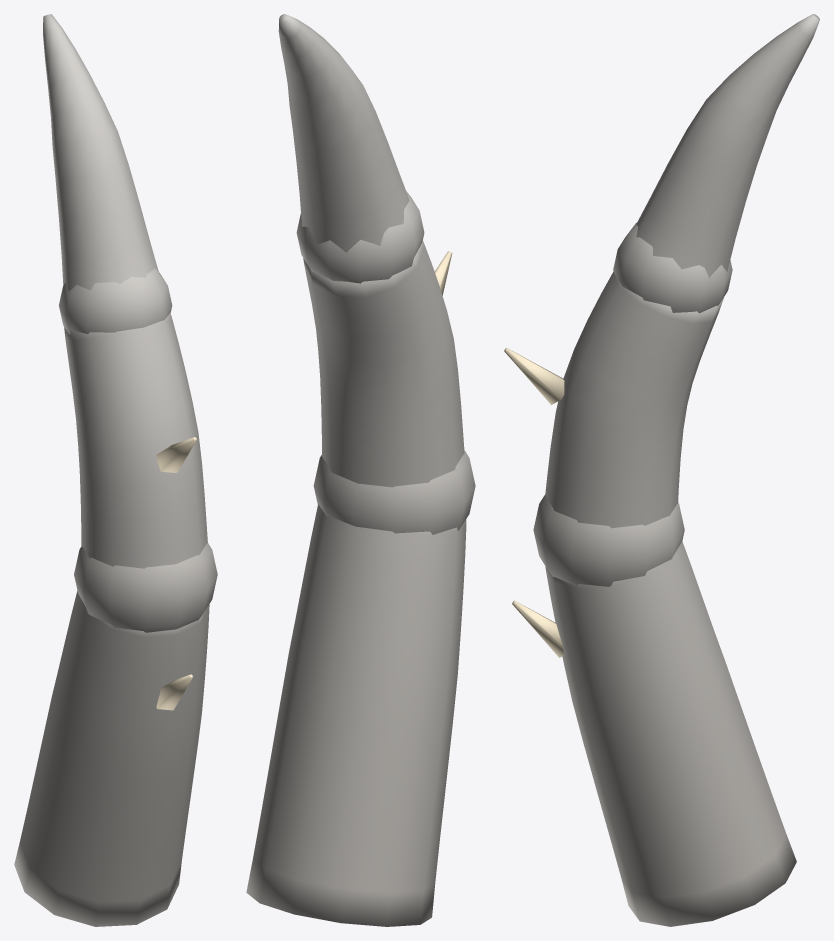
File: part_leg_crab.glb
3 renders of one model, left to right at view 1: azimuth 30°, elevation 25°; view 2: azimuth 150°, elevation 25°; view 3: azimuth 270°, elevation 25°, orthographic. The views are drawn at different scales.
Parts seen in each view (by area): view 1: swing.002_painted_mesh.001; view 2: swing.002_painted_mesh.001; view 3: swing.002_painted_mesh.001.
Part boxes in pixels (x1=…): swing.002_painted_mesh.001: x1=14, y1=14, x2=217, y2=926; swing.002_painted_mesh.001: x1=246, y1=14, x2=475, y2=926; swing.002_painted_mesh.001: x1=504, y1=14, x2=819, y2=926.
Size of the model in its own units: 0.22 by 1.23 by 0.3964.
